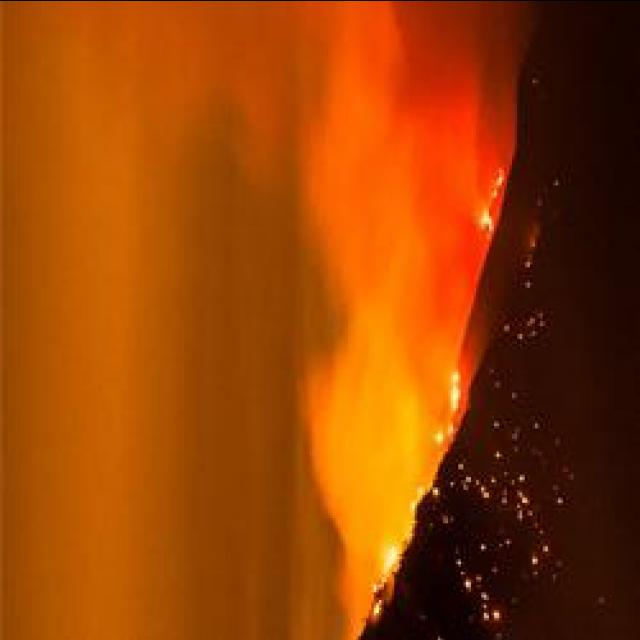fire: (449, 368, 465, 409)
smoke: (317, 116, 435, 332), (308, 341, 412, 528)
